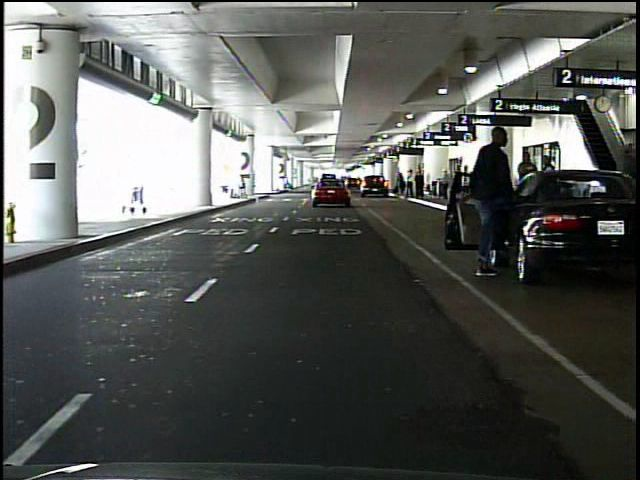person: (472, 124, 521, 282), (513, 149, 541, 223), (540, 153, 559, 221), (440, 168, 451, 200), (416, 170, 427, 201), (405, 168, 415, 200), (397, 172, 406, 197), (284, 175, 293, 192)
